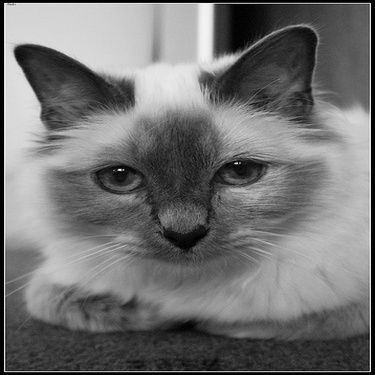cat: (18, 19, 370, 340)
